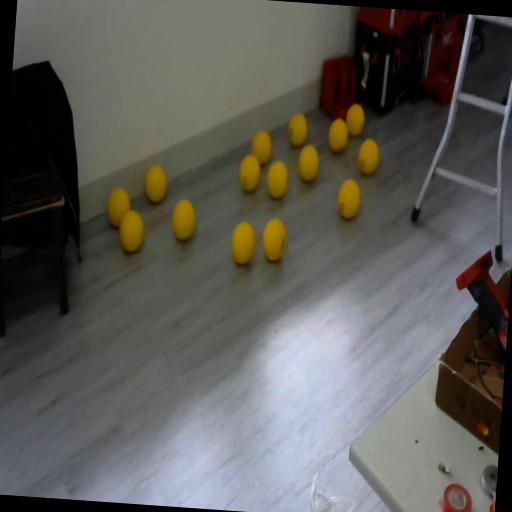FUEL: (116, 208, 146, 254), (260, 216, 288, 263), (229, 220, 257, 266), (172, 198, 198, 242), (143, 162, 169, 204), (336, 178, 362, 220), (238, 152, 262, 194), (265, 160, 290, 200), (296, 143, 321, 183), (356, 138, 380, 176), (326, 116, 350, 154), (250, 128, 273, 166), (287, 112, 309, 148), (345, 102, 366, 137)
